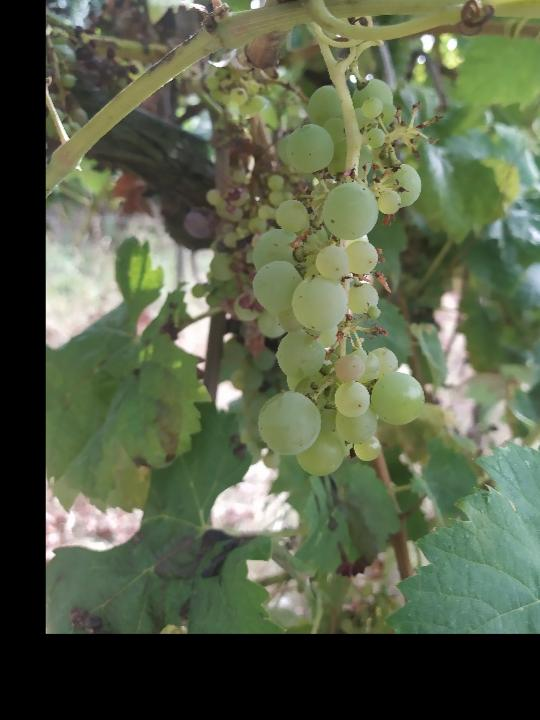grape: (248, 73, 427, 479)
